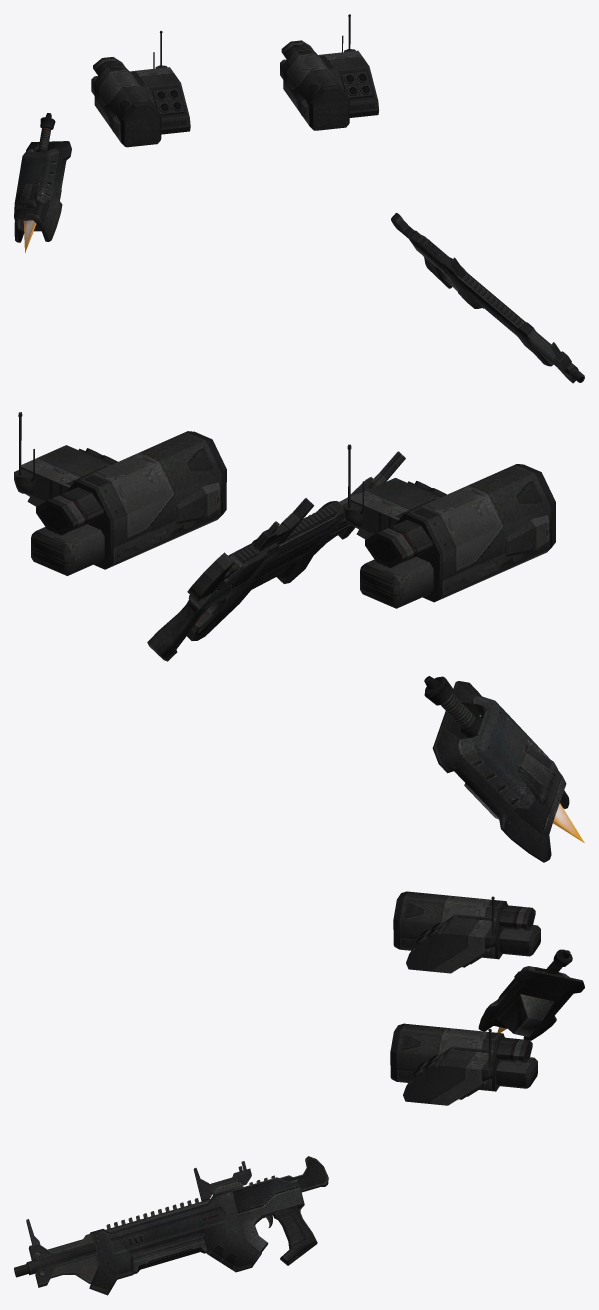
File: Rifle And Missile Launcher.FBX
The picture shows the model from 3 angles, top to bottom: view 1: azimuth 30°, elevation 25°; view 2: azimuth 150°, elevation 25°; view 3: azimuth 270°, elevation 25°; orthographic projection. The views are drawn at different scales.
Visible parts, largest first — view 1: group_omfgpota_wancab_poly_omfgpota_wancab_l_shldr_ml_main, poly_omfgpota_wancab_r_shldr_ml_main_group_omfgpota_wancab, group_omfgpota_wancab_poly_omfgpota_wancab_r_arm_wep, group_omfgpota_wancab_poly_omfgpota_wancab_l_arm_bmg; view 2: poly_omfgpota_wancab_r_shldr_ml_main_group_omfgpota_wancab, group_omfgpota_wancab_poly_omfgpota_wancab_l_shldr_ml_main, group_omfgpota_wancab_poly_omfgpota_wancab_r_arm_wep, group_omfgpota_wancab_poly_omfgpota_wancab_l_arm_bmg; view 3: group_omfgpota_wancab_poly_omfgpota_wancab_l_arm_bmg, poly_omfgpota_wancab_r_shldr_ml_main_group_omfgpota_wancab, group_omfgpota_wancab_poly_omfgpota_wancab_l_shldr_ml_main, group_omfgpota_wancab_poly_omfgpota_wancab_r_arm_wep.
Boxes of the visible parts, x1=… form: group_omfgpota_wancab_poly_omfgpota_wancab_l_shldr_ml_main: x1=280, y1=14, x2=379, y2=130; poly_omfgpota_wancab_r_shldr_ml_main_group_omfgpota_wancab: x1=91, y1=31, x2=190, y2=147; group_omfgpota_wancab_poly_omfgpota_wancab_r_arm_wep: x1=14, y1=113, x2=71, y2=252; group_omfgpota_wancab_poly_omfgpota_wancab_l_arm_bmg: x1=391, y1=213, x2=584, y2=383; poly_omfgpota_wancab_r_shldr_ml_main_group_omfgpota_wancab: x1=343, y1=444, x2=555, y2=608; group_omfgpota_wancab_poly_omfgpota_wancab_l_shldr_ml_main: x1=14, y1=412, x2=226, y2=575; group_omfgpota_wancab_poly_omfgpota_wancab_r_arm_wep: x1=424, y1=676, x2=584, y2=862; group_omfgpota_wancab_poly_omfgpota_wancab_l_arm_bmg: x1=147, y1=451, x2=405, y2=661; group_omfgpota_wancab_poly_omfgpota_wancab_l_arm_bmg: x1=14, y1=1156, x2=328, y2=1295; poly_omfgpota_wancab_r_shldr_ml_main_group_omfgpota_wancab: x1=393, y1=891, x2=540, y2=973; group_omfgpota_wancab_poly_omfgpota_wancab_l_shldr_ml_main: x1=390, y1=1023, x2=537, y2=1105; group_omfgpota_wancab_poly_omfgpota_wancab_r_arm_wep: x1=478, y1=949, x2=584, y2=1040.
Bounding box in the file's own units: 50.76 × 35.5 × 64.55.
Materials: 3 (3 with a texture image).
